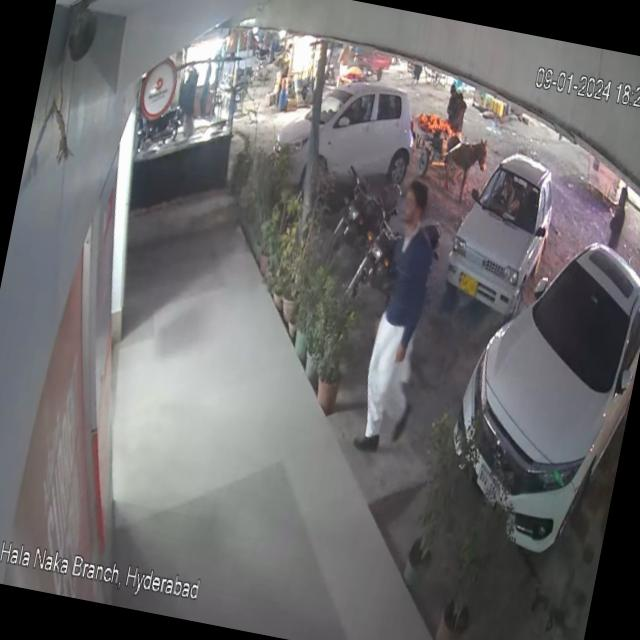Car: (429, 178, 640, 576), (437, 124, 569, 346), (250, 50, 430, 196)
Motorcycle: (335, 200, 450, 316), (330, 164, 410, 264)
